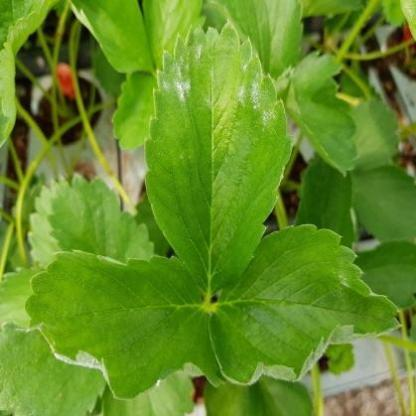Strawberry_Powdery_Mildew_Leaf: (143, 18, 294, 301), (206, 224, 402, 387), (23, 249, 230, 402)
